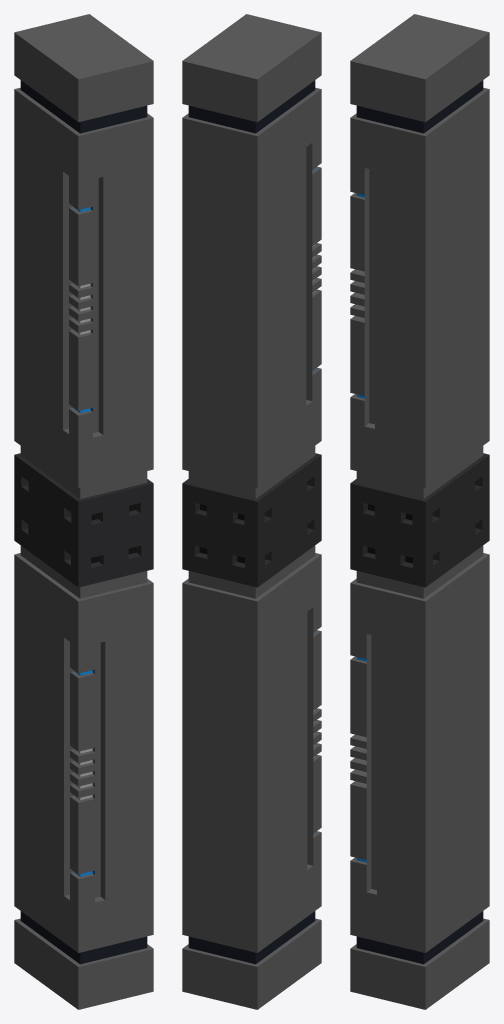
Rendered from Wall.fbx.
The picture shows the model from 3 angles, left to right: view 1: azimuth 30°, elevation 25°; view 2: azimuth 150°, elevation 25°; view 3: azimuth 330°, elevation 25°; orthographic projection.
Parts seen in each view (by area): view 1: Wall; view 2: Wall; view 3: Wall.
Part boxes in pixels (x1,y1,x2,y2): Wall: [14, 14, 153, 1009]; Wall: [182, 14, 321, 1009]; Wall: [350, 14, 489, 1009].
Size of the model in its own units: 32.43 by 383 by 47.94.
